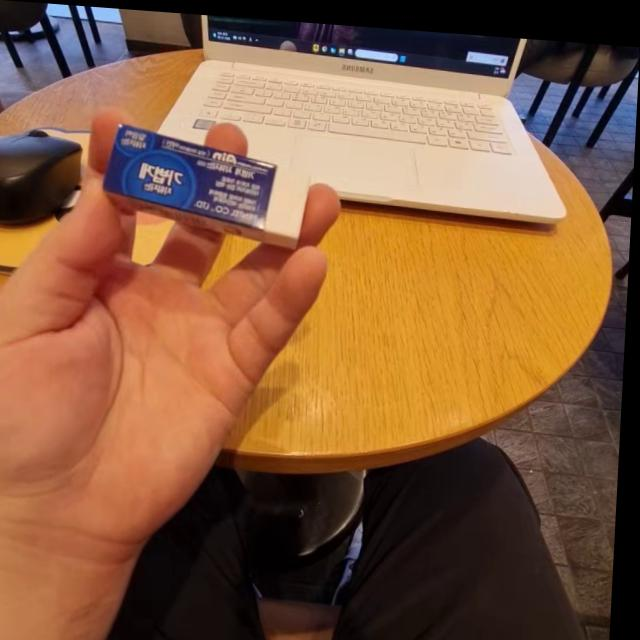grab_eraser: (0, 98, 349, 590)
mouse: (0, 104, 89, 253)
